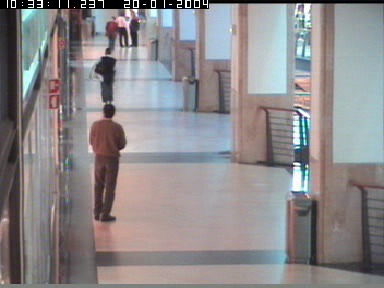person: (88, 103, 126, 221), (89, 47, 117, 111), (104, 15, 117, 51), (116, 11, 128, 47), (129, 11, 140, 47)
